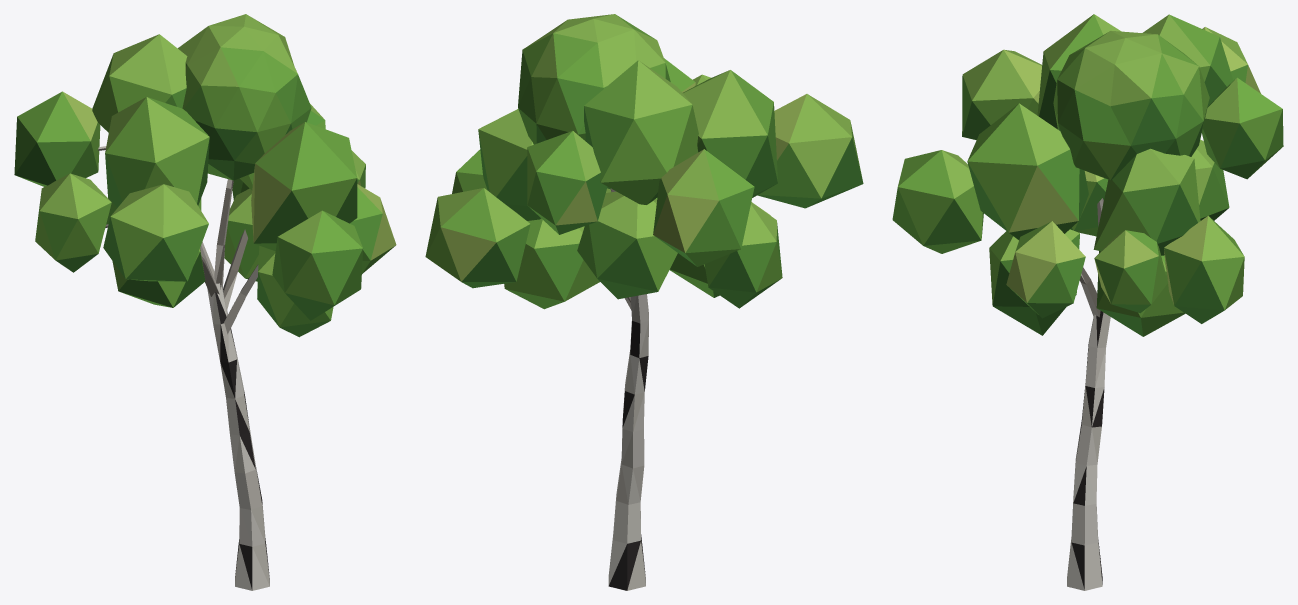
The model's file is city-tree-mid-2.glb.
3 views of the same model, side by side, from view 1: azimuth 30°, elevation 25°; view 2: azimuth 150°, elevation 25°; view 3: azimuth 270°, elevation 25° (orthographic). The views are drawn at different scales.
Parts seen in each view (by area): view 1: CityTreeMid2; view 2: CityTreeMid2; view 3: CityTreeMid2.
Part boxes in pixels (<box>): CityTreeMid2: <box>14,14,396,590</box>; CityTreeMid2: <box>425,14,863,590</box>; CityTreeMid2: <box>892,14,1283,590</box>.
Size of the model in its own units: 3.71 by 6.14 by 3.96.
